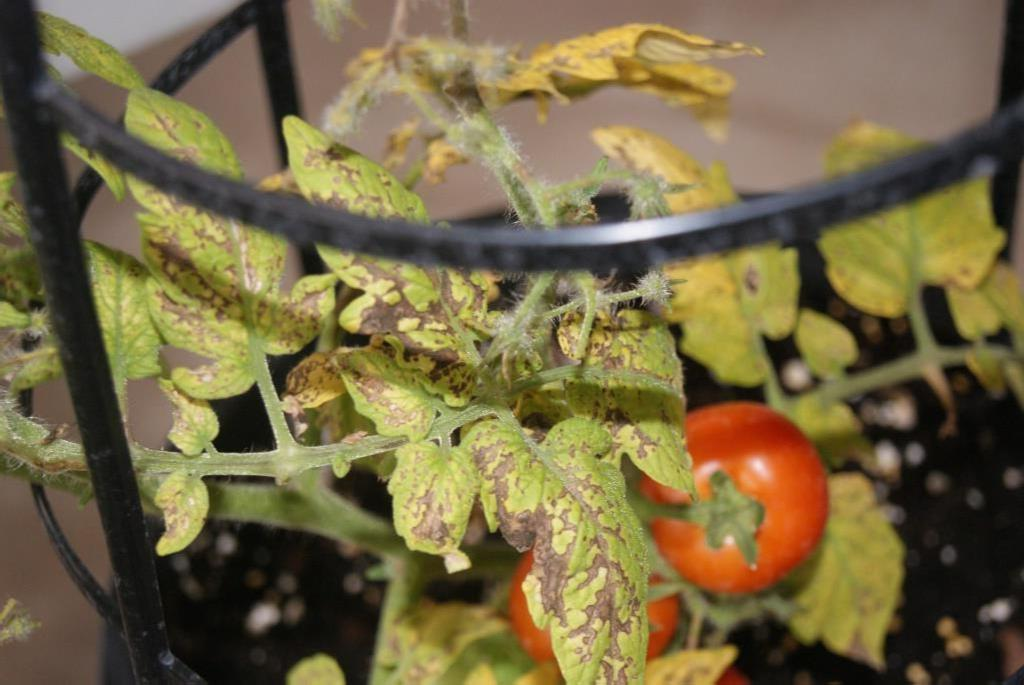Tomato leaf bacterial spot: (120, 87, 326, 421), (261, 101, 485, 369), (454, 394, 657, 674), (565, 301, 694, 495), (383, 433, 474, 574)
